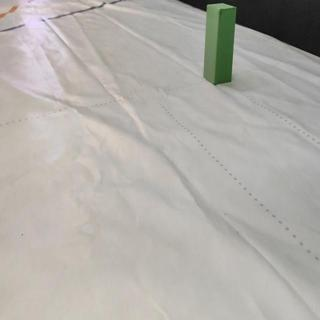greenbox: (203, 2, 237, 86)
